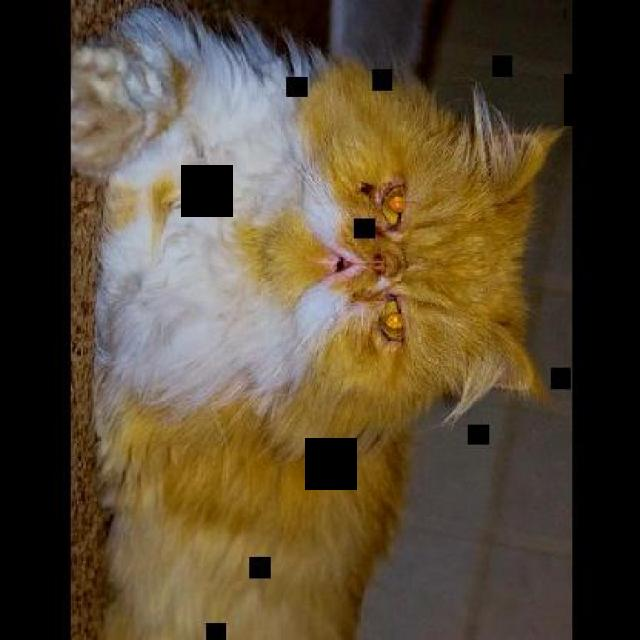unauthorized: (69, 0, 564, 638)
